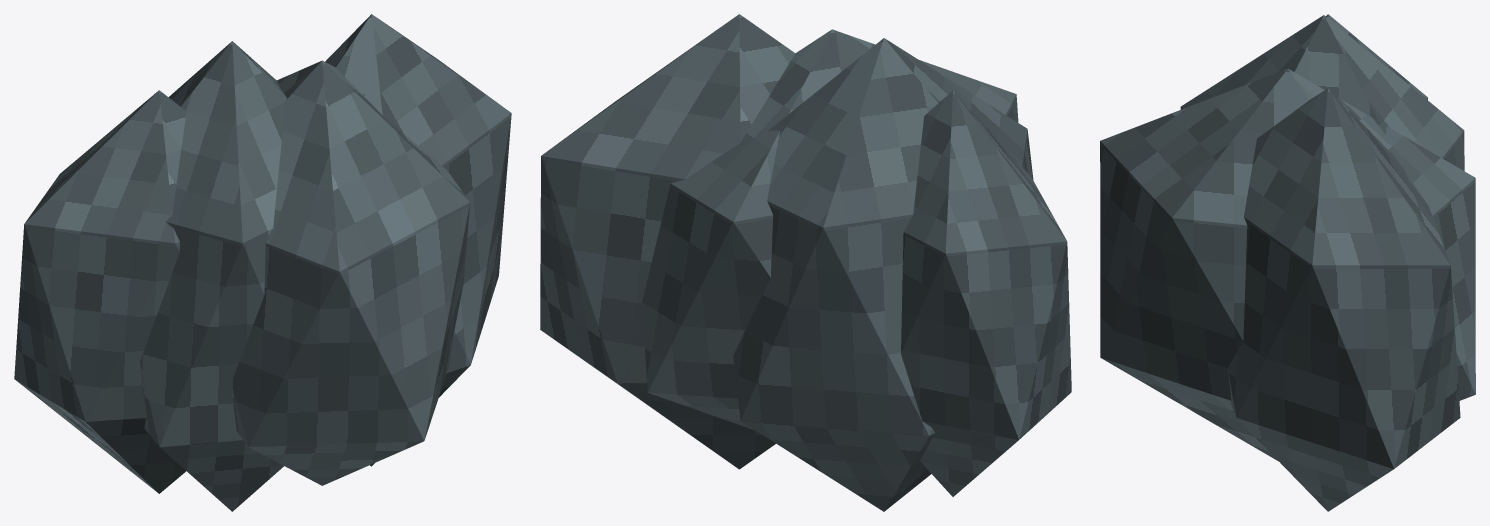
File: ruin_39.glb
3 renders of one model, left to right at view 1: azimuth 30°, elevation 25°; view 2: azimuth 150°, elevation 25°; view 3: azimuth 270°, elevation 25°, orthographic. The views are drawn at different scales.
Visible parts, largest first — view 1: WeatheredStone.002, WeatheredStone, WeatheredStone.001, WeatheredStone.003; view 2: WeatheredStone.001, WeatheredStone, WeatheredStone.003, WeatheredStone.002; view 3: WeatheredStone.003, WeatheredStone.002, WeatheredStone.001, WeatheredStone.
Boxes of the visible parts, box(x1,y1,x2,y2) form: WeatheredStone.002: box(231, 60, 469, 485); WeatheredStone: box(14, 90, 186, 493); WeatheredStone.001: box(140, 41, 286, 511); WeatheredStone.003: box(325, 14, 511, 466); WeatheredStone.001: box(733, 38, 1033, 511); WeatheredStone: box(901, 91, 1071, 496); WeatheredStone.003: box(540, 14, 795, 469); WeatheredStone.002: box(642, 29, 1018, 430); WeatheredStone.003: box(1228, 88, 1460, 511); WeatheredStone.002: box(1100, 68, 1475, 461); WeatheredStone.001: box(1180, 15, 1464, 170); WeatheredStone: box(1326, 14, 1427, 99).
Size of the model in its own units: 3.18 by 2.86 by 2.21.
Materials: 1 (1 with a texture image).
